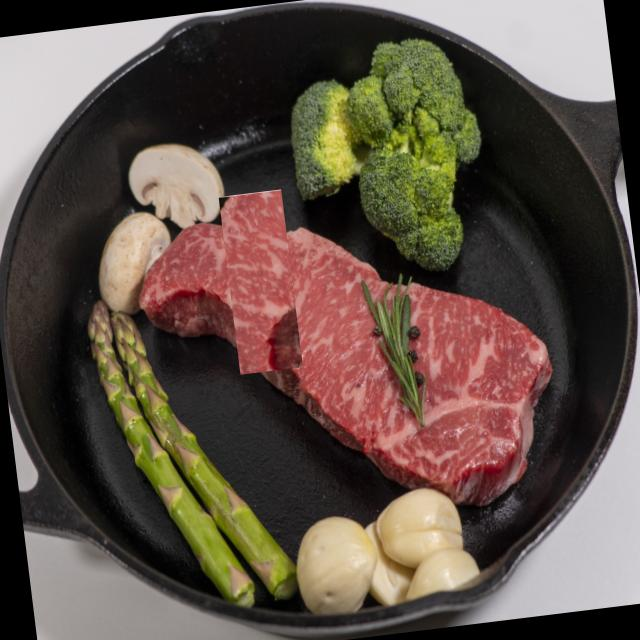beef: (193, 214, 328, 349)
